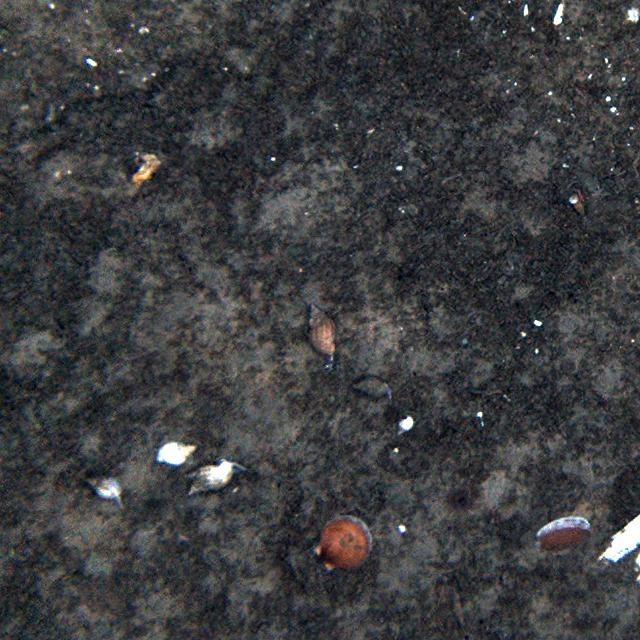whelk: (301, 300, 340, 361)
